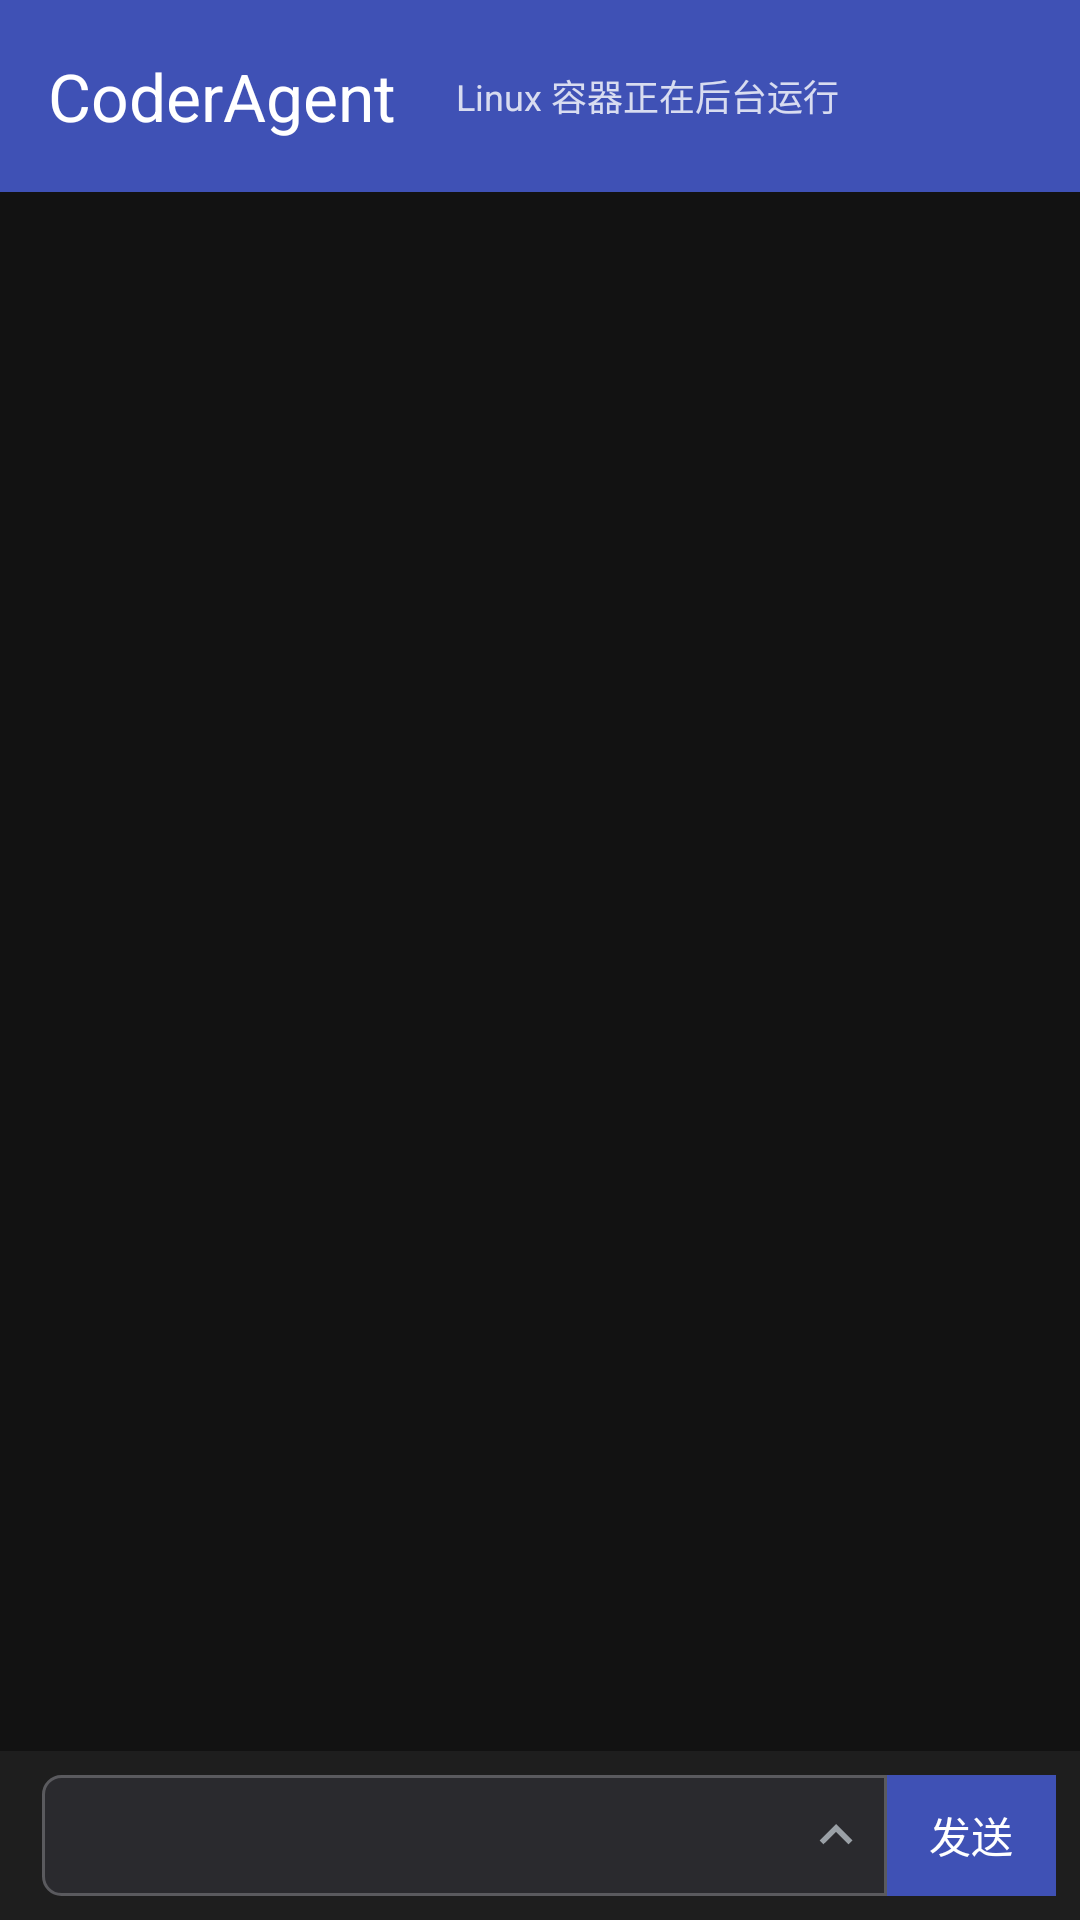

Icon bounding boxes for this 1080px×1920px phone screenshot, format bbox(x1, y1, x2, y2):
展开/收起输入框: bbox(820, 1824, 853, 1844)
